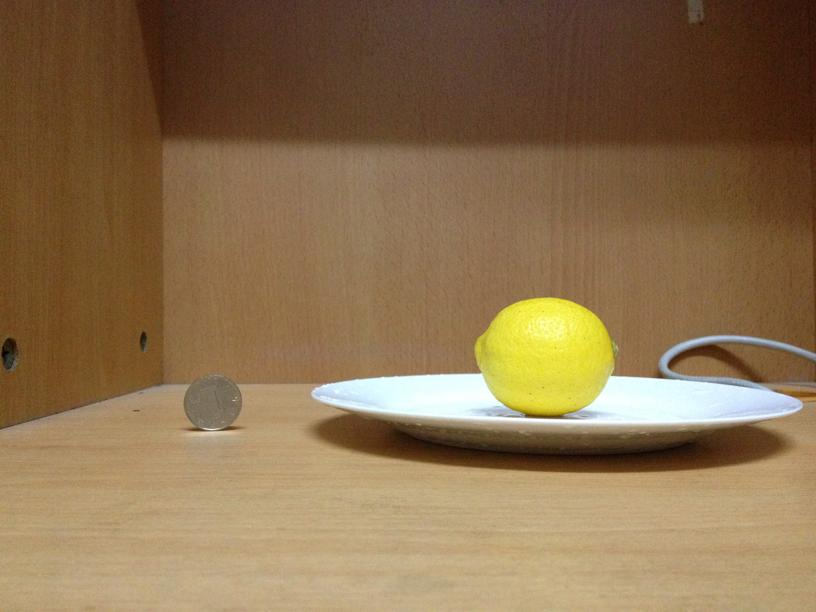coin: (183, 373, 242, 429)
lemon: (475, 298, 618, 416)
